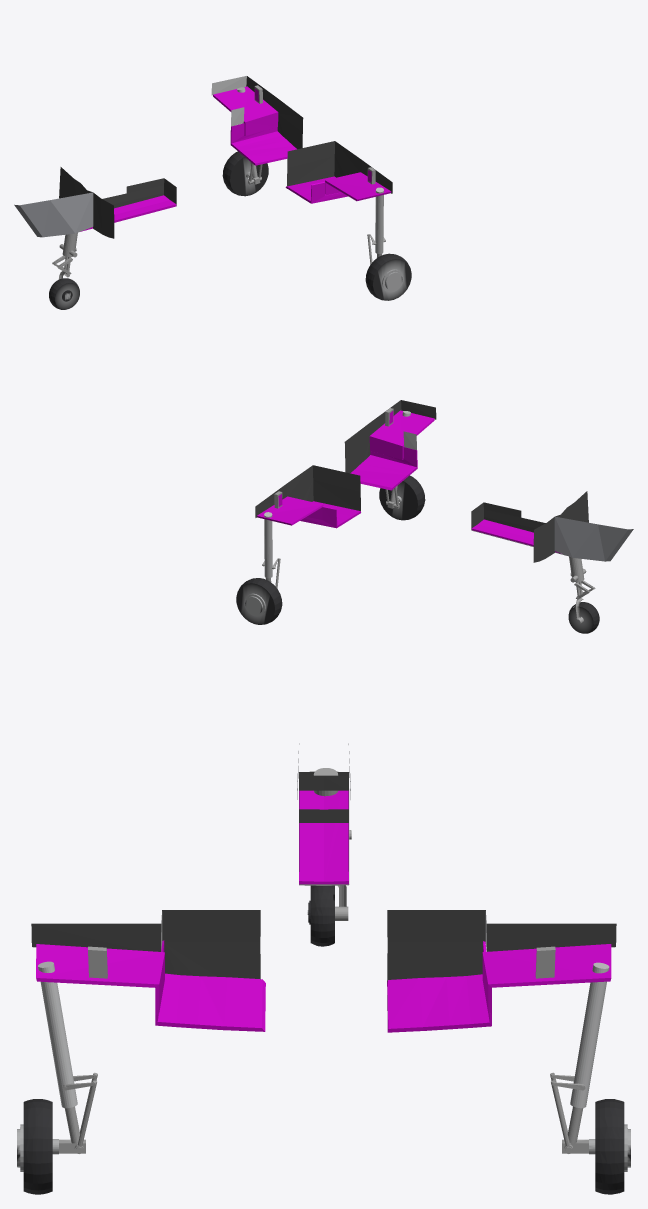
File: ef.gear.glb
3 views of the same model, one above another, from view 1: azimuth 30°, elevation 25°; view 2: azimuth 150°, elevation 25°; view 3: azimuth 270°, elevation 25° (orthographic). The views are drawn at different scales.
Visible parts, largest first — view 1: gear; view 2: gear; view 3: gear.
Boxes of the visible parts, <box> form: gear: <box>14,76,411,309</box>; gear: <box>236,400,633,633</box>; gear: <box>17,743,630,1194</box>.
Bounding box in the file's own units: 10.33 × 2.46 × 4.46.
